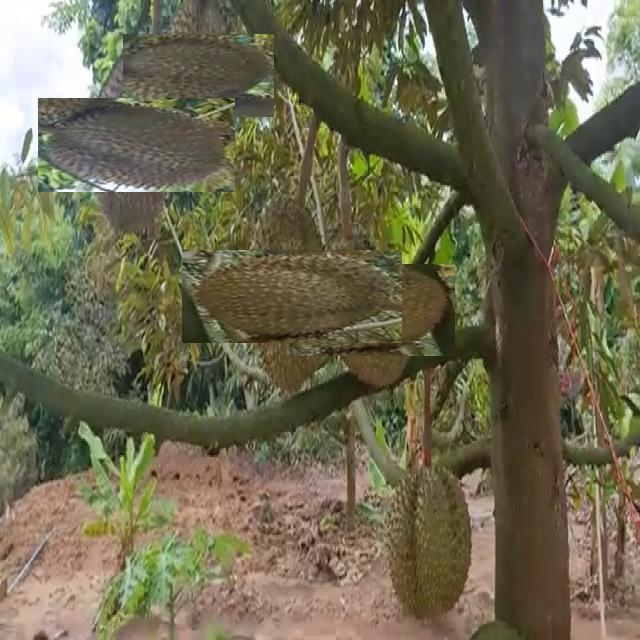durian: (213, 218, 371, 374), (64, 72, 210, 218), (306, 245, 436, 376), (382, 460, 474, 620), (140, 17, 257, 135)
